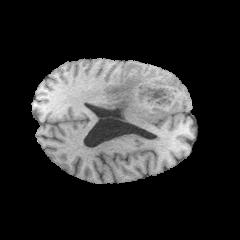glioma: (103, 63, 184, 133)
